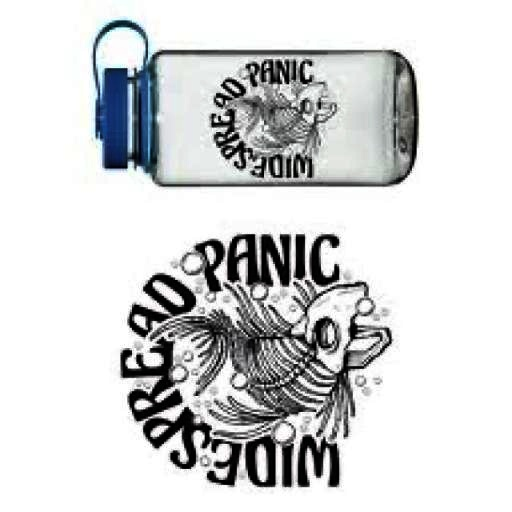bottle: (92, 17, 422, 187)
